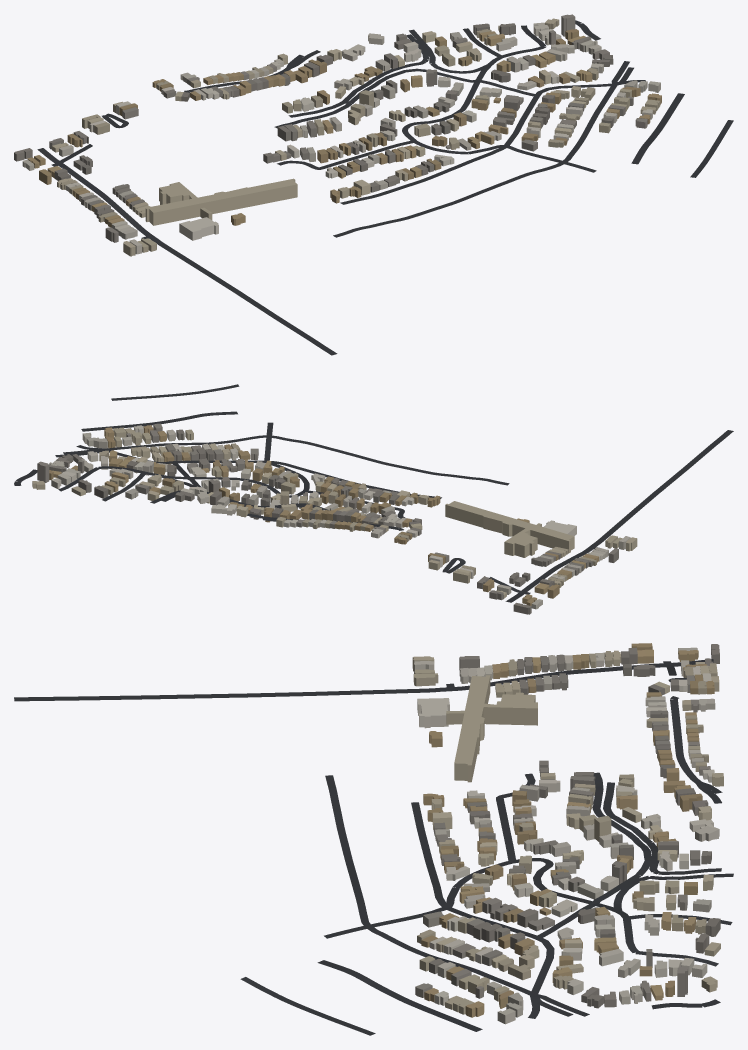
File: tile_6_17.glb
The picture shows the model from 3 angles, top to bottom: view 1: azimuth 30°, elevation 25°; view 2: azimuth 150°, elevation 25°; view 3: azimuth 270°, elevation 25°; orthographic projection. The views are drawn at different scales.
Parts seen in each view (by area): view 1: bld_6_17, road_6_17; view 2: bld_6_17, road_6_17; view 3: bld_6_17, road_6_17.
Boxes of the visible parts, x1,y1,x2,y2 form: bld_6_17: (14,14,661,256); road_6_17: (37,20,733,355); bld_6_17: (32,423,637,614); road_6_17: (14,384,733,602); bld_6_17: (412,643,723,1024); road_6_17: (14,659,733,1035).
Bounding box in the file's own units: 839 × 82.5 × 682.
